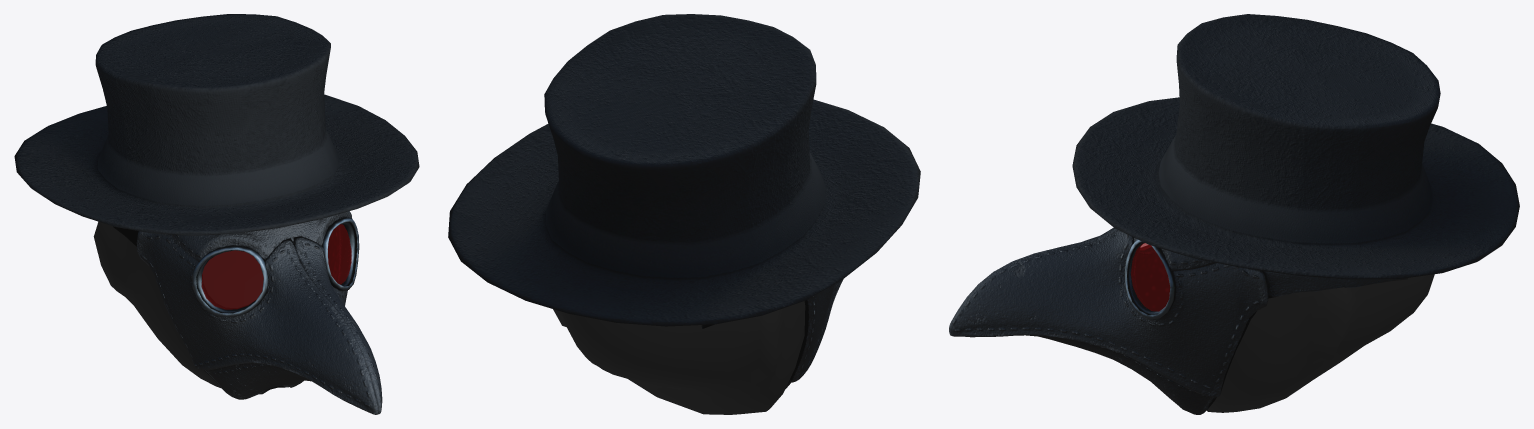
File: source.glb
3 renders of one model, left to right at view 1: azimuth 30°, elevation 25°; view 2: azimuth 150°, elevation 25°; view 3: azimuth 270°, elevation 25°, orthographic. The views are drawn at different scales.
Visible parts, largest first — view 1: Object_3, Object_5, Object_4, Object_2; view 2: Object_3, Object_4, Object_5; view 3: Object_3, Object_5, Object_4, Object_2.
Boxes of the visible parts, x1=… form: Object_3: x1=14, y1=14, x2=419, y2=235; Object_5: x1=113, y1=211, x2=382, y2=414; Object_4: x1=93, y1=221, x2=269, y2=394; Object_2: x1=202, y1=224, x2=351, y2=309; Object_3: x1=448, y1=14, x2=920, y2=326; Object_4: x1=553, y1=301, x2=805, y2=414; Object_5: x1=701, y1=279, x2=843, y2=389; Object_3: x1=1072, y1=14, x2=1519, y2=279; Object_5: x1=949, y1=227, x2=1407, y2=414; Object_4: x1=1207, y1=274, x2=1434, y2=412; Object_2: x1=1131, y1=243, x2=1169, y2=311.
Bounding box in the file's own units: 0.2794 × 0.2587 × 0.3827.
4 materials, 2 textured.
